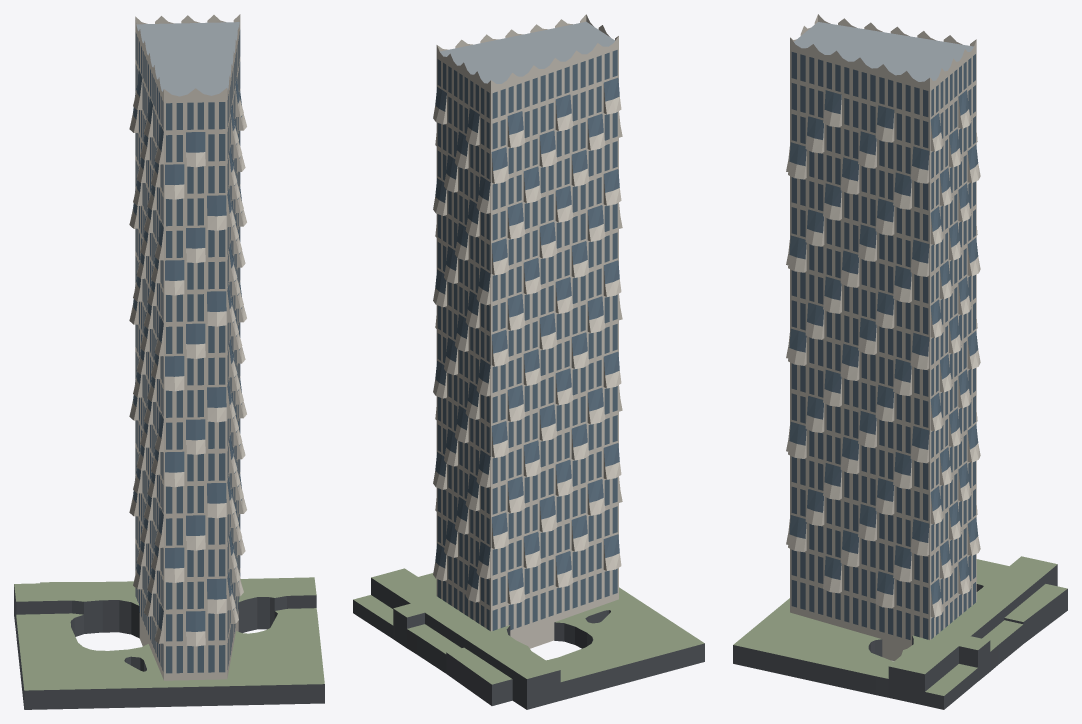
File: nyc-11-hoyt.glb
3 views of the same model, side by side, from view 1: azimuth 30°, elevation 25°; view 2: azimuth 150°, elevation 25°; view 3: azimuth 270°, elevation 25° (orthographic). The views are drawn at different scales.
Visible parts, largest first — view 1: 11 Hoyt; view 2: 11 Hoyt; view 3: 11 Hoyt.
Part boxes in pixels (box(x1,y1,x2,y2)): 11 Hoyt: box(14, 14, 324, 709); 11 Hoyt: box(353, 14, 704, 709); 11 Hoyt: box(733, 14, 1067, 709).
Size of the model in its own units: 107 by 189 by 96.5.
